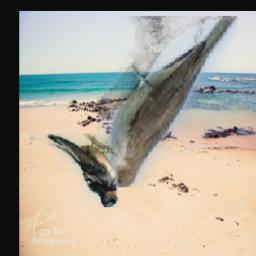Cuckoo: (98, 16, 239, 187)
Swallow: (29, 133, 118, 207)
